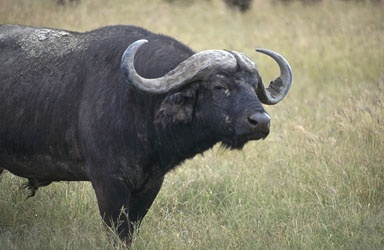buffalo: (0, 24, 294, 249)
